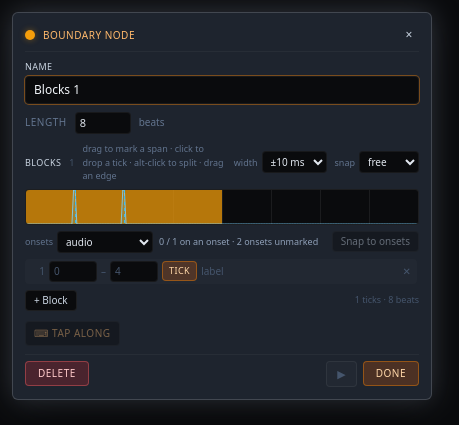
Test case: NodeEditPopover stem onsets › reports a stem that cannot be read instead of scoring the blocks against nothing
Select "audio · drums" in the dropdown labelled "onsets". click: x=105, y=242
box: [57,230,153,252]
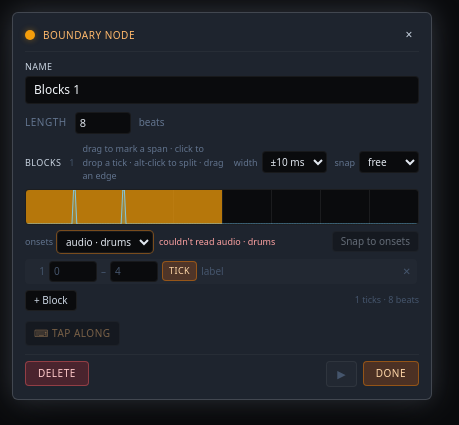
Result: the text "couldn't read audio · drums" is shown at [159,235,275,248]
Result: the text "on an onset" is gone
